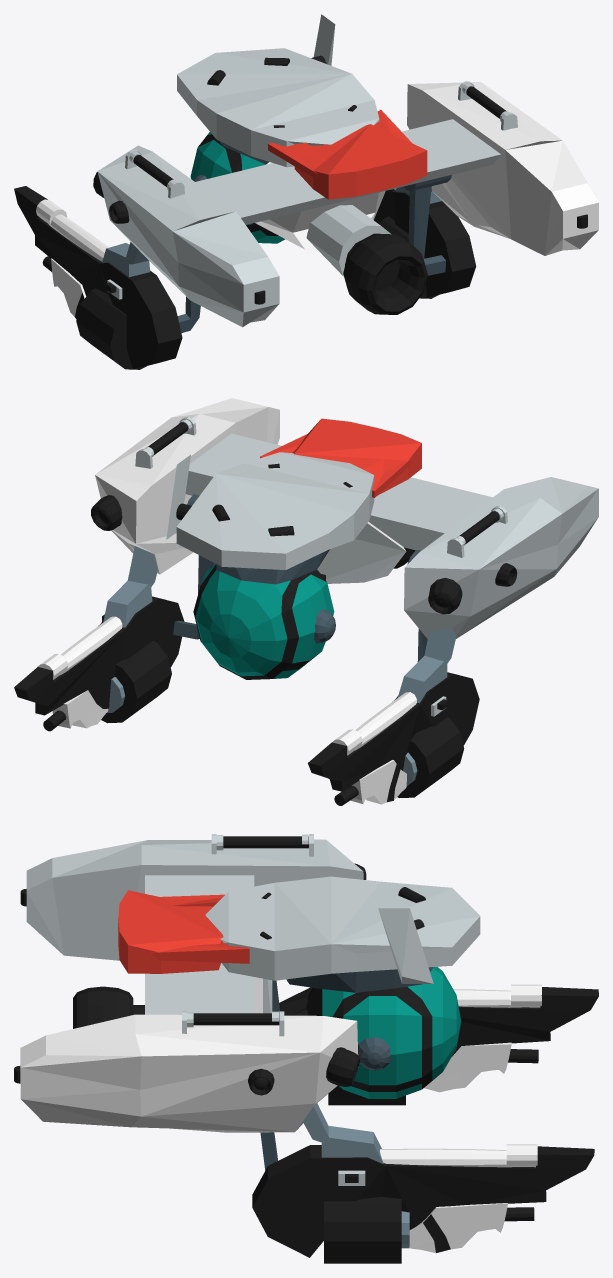
File: scene_CwH2su1uyW.glb
The picture shows the model from 3 angles, top to bottom: view 1: azimuth 30°, elevation 25°; view 2: azimuth 150°, elevation 25°; view 3: azimuth 270°, elevation 25°; orthographic projection. The views are drawn at different scales.
Parts seen in each view (by area): view 1: group1819108682, group191510028, group371437982; view 2: group1819108682, group191510028; view 3: group1819108682.
Part boxes in pixels (<box>): group1819108682: <box>14,14,598,369</box>; group191510028: <box>403,175,451,275</box>; group371437982: <box>177,296,200,332</box>; group1819108682: <box>14,398,598,805</box>; group191510028: <box>173,494,215,639</box>; group1819108682: <box>14,834,598,1263</box>.
Bounding box in the file's own units: 0.7741 × 0.514 × 0.8685.
